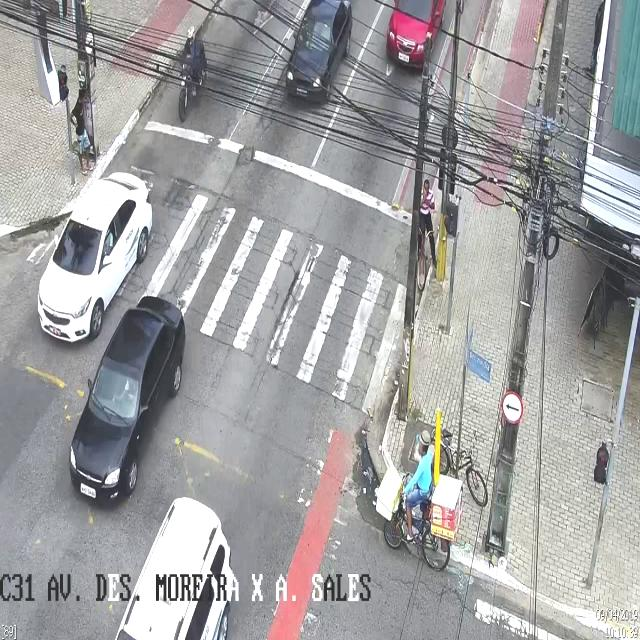Car: (68, 295, 185, 508), (36, 169, 152, 339), (115, 498, 232, 639), (285, 4, 352, 102), (386, 2, 446, 74)
Motorcycle: (177, 26, 207, 122)
